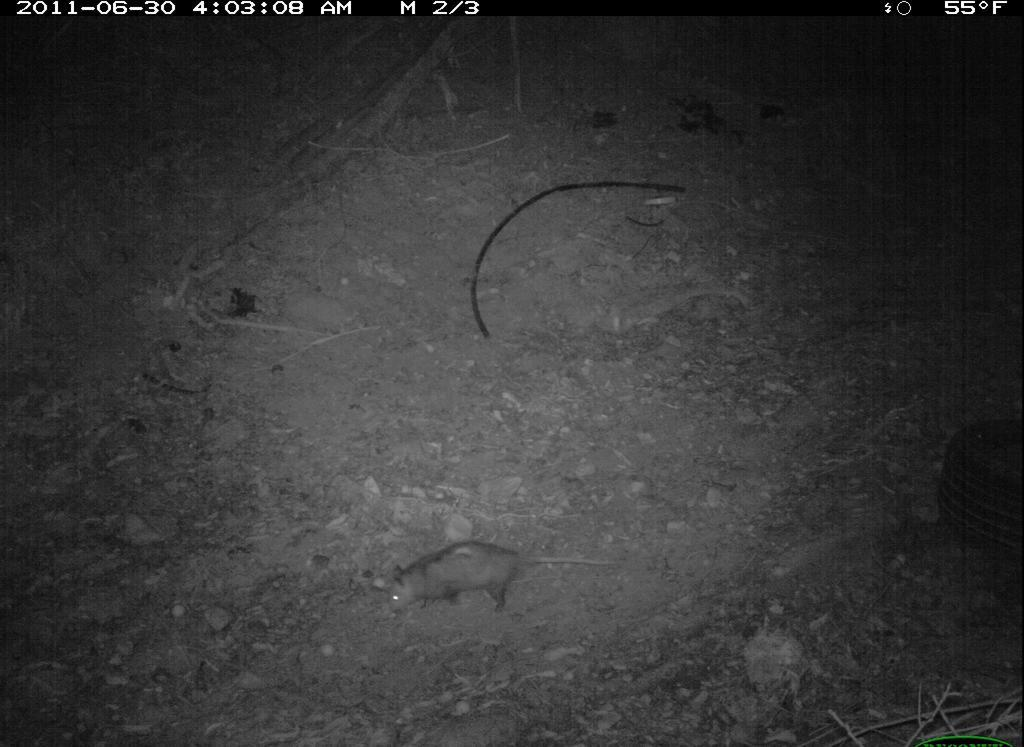opossum: (367, 520, 646, 626)
